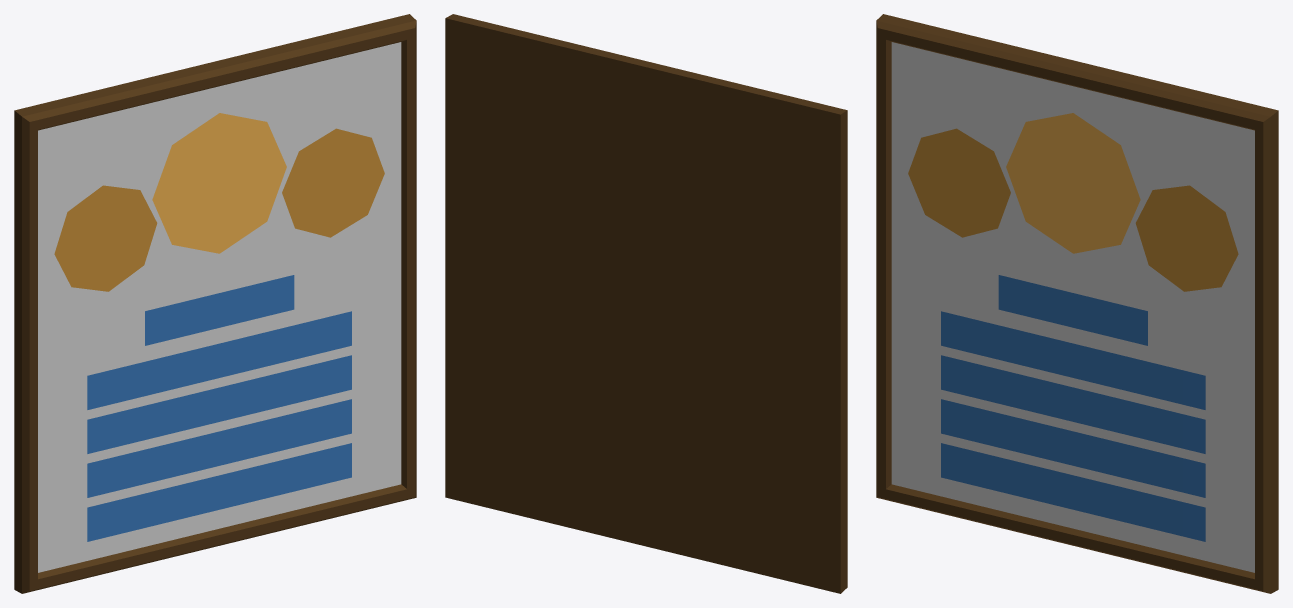
Rendered from Int_WallCertificate01_4.fbx.
3 renders of one model, left to right at view 1: azimuth 30°, elevation 25°; view 2: azimuth 150°, elevation 25°; view 3: azimuth 330°, elevation 25°, orthographic.
Parts seen in each view (by area): view 1: Int_WallCertificate01_4; view 2: Int_WallCertificate01_4; view 3: Int_WallCertificate01_4.
Boxes of the visible parts, bbox=[...] form: Int_WallCertificate01_4: bbox=[14, 14, 416, 593]; Int_WallCertificate01_4: bbox=[445, 14, 847, 593]; Int_WallCertificate01_4: bbox=[876, 14, 1278, 593].
Size of what is drawn, in the model's own units: 39.18 by 1.79 by 45.41.
